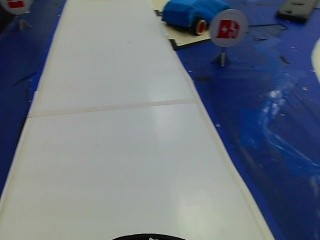battery: (215, 16, 242, 44)
